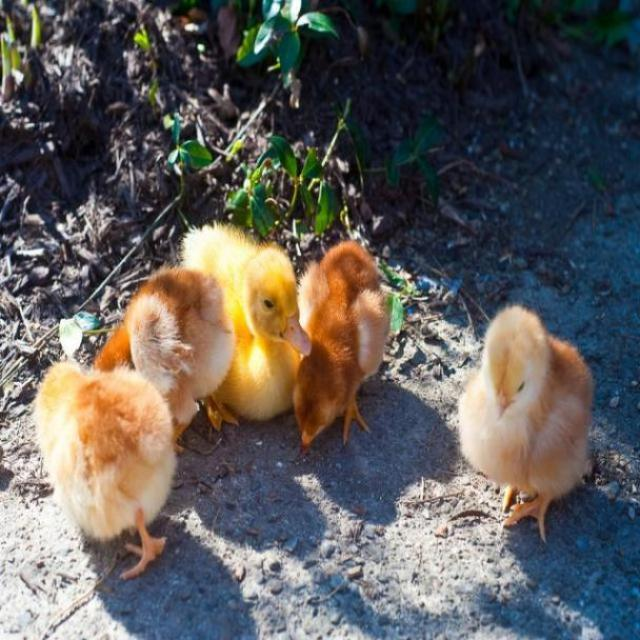Chicken: (465, 308, 594, 548)
